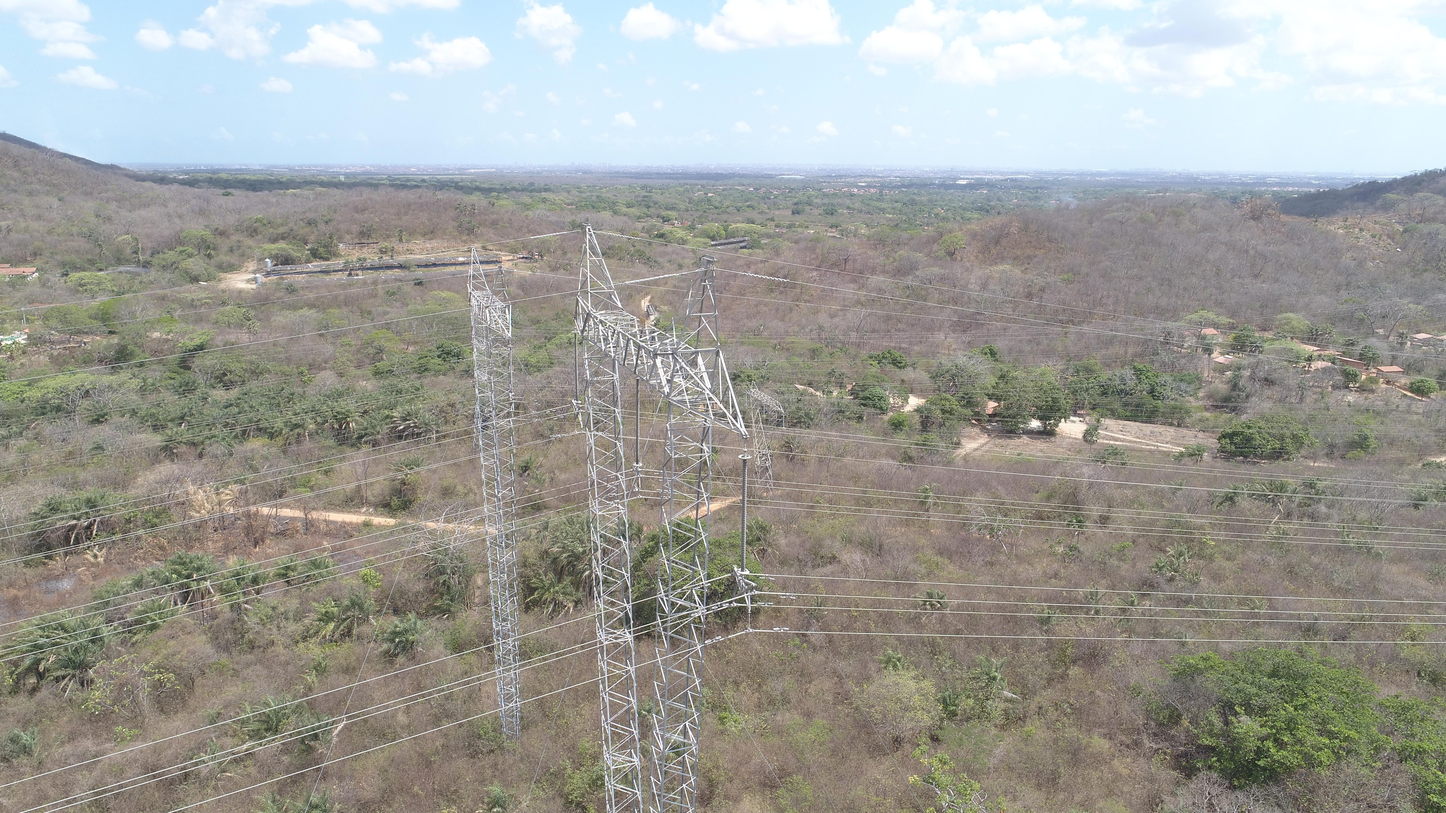power_tower: (569, 219, 758, 813), (466, 245, 525, 746), (744, 379, 787, 504)
